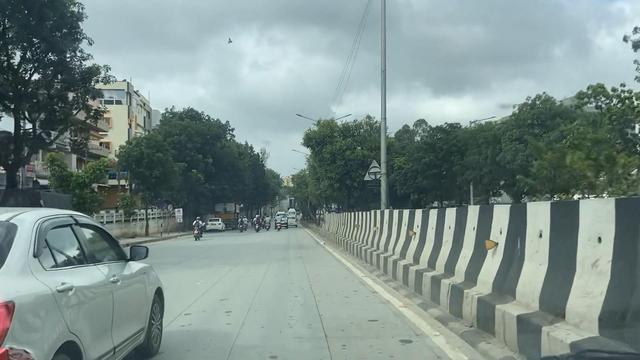LMV: (0, 199, 172, 360)
